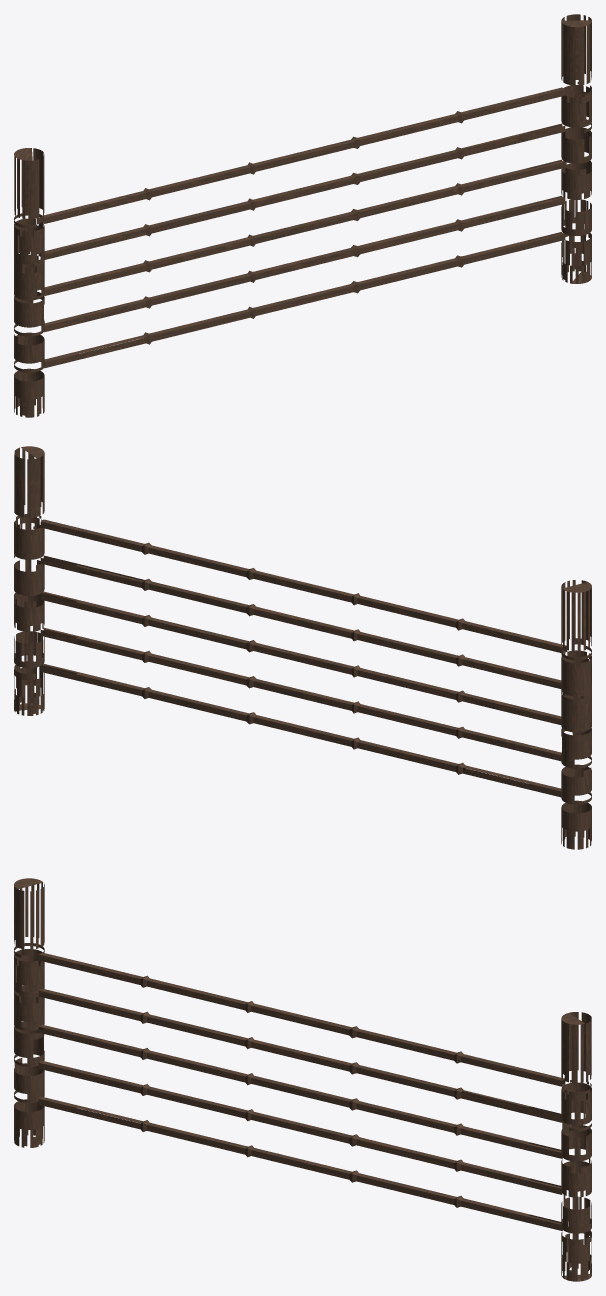
The model's file is barbed_barrier.fbx.
3 views of the same model, one above another, from view 1: azimuth 30°, elevation 25°; view 2: azimuth 150°, elevation 25°; view 3: azimuth 330°, elevation 25° (orthographic).
Parts seen in each view (by area): view 1: Cylinder; view 2: Cylinder; view 3: Cylinder.
Boxes of the visible parts, x1,y1,x2,y2 form: Cylinder: [14, 14, 591, 417]; Cylinder: [14, 446, 591, 849]; Cylinder: [14, 878, 591, 1281].
Size of the model in its own units: 16.25 by 6.95 by 0.7502.
Materials: 1 (1 with a texture image).
